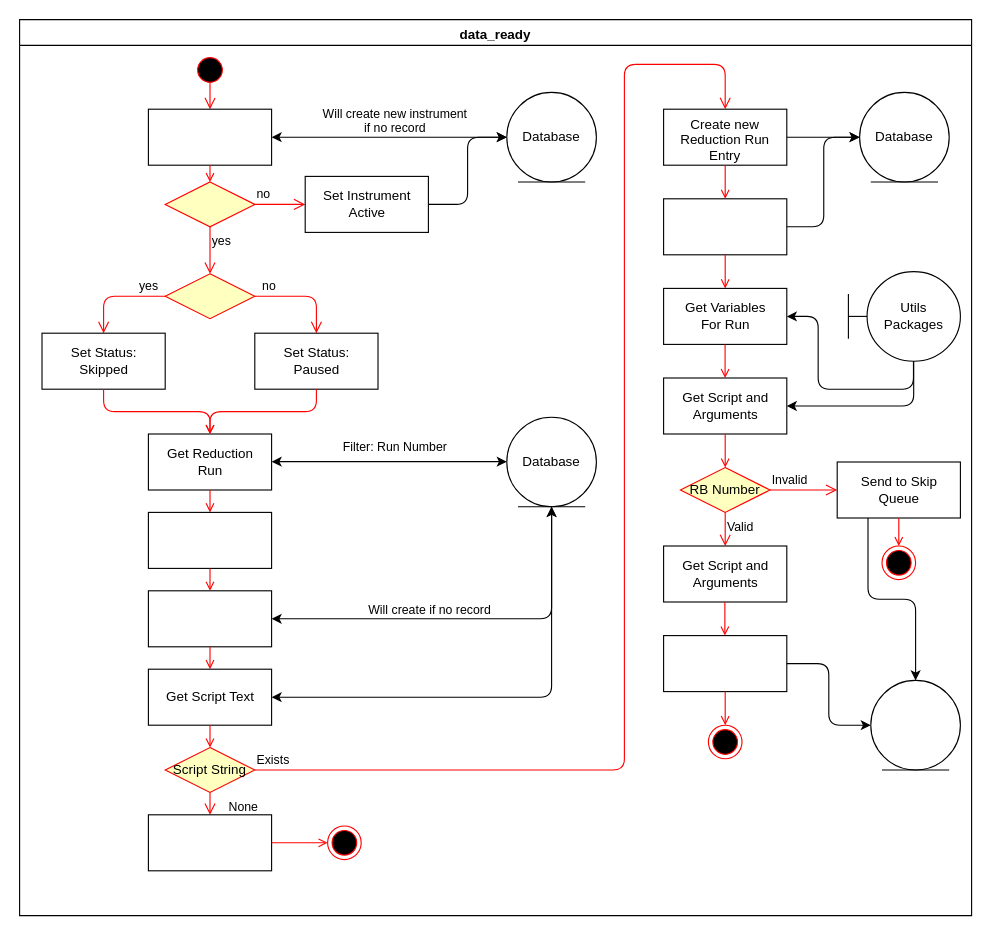
This 991x935 diagram has some shape labels left out. The box of each missing label's shape, as (x1, y1, x2, y2) in pixels:
Active MQ: (870, 679, 960, 770)
Call reduction_error(): (147, 814, 272, 871)
Create new Data Location Entry: (662, 198, 787, 255)
Get Experiment: (147, 590, 272, 647)
Get Instrument Record: (147, 108, 272, 165)
Increment version starting at 0: (147, 511, 272, 568)
Inst. Active: (164, 181, 255, 227)
Inst. Paused: (164, 273, 255, 319)
Send to Pending Queue: (662, 634, 787, 692)
